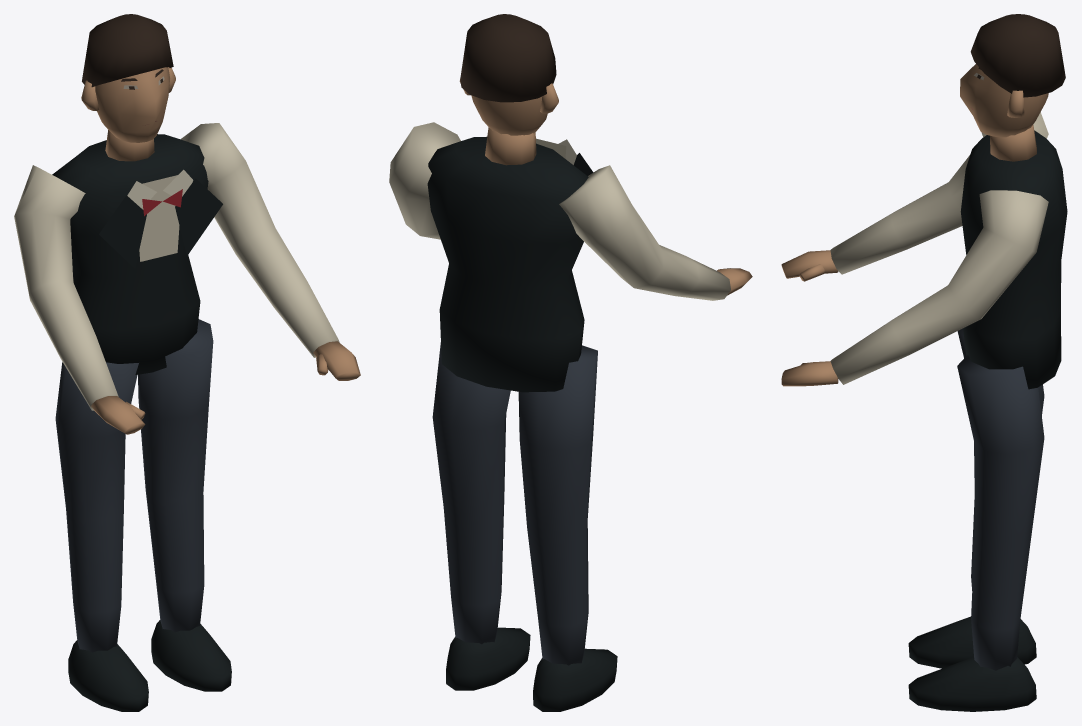
The model's file is salon_dealer.glb.
3 renders of one model, left to right at view 1: azimuth 30°, elevation 25°; view 2: azimuth 150°, elevation 25°; view 3: azimuth 270°, elevation 25°, orthographic. The views are drawn at different scales.
Visible parts, largest first — view 1: Palette; view 2: Palette; view 3: Palette.
Part boxes in pixels (left/top/right/bottom): Palette: left=14, top=14, right=360, bottom=711; Palette: left=389, top=14, right=752, bottom=711; Palette: left=781, top=14, right=1067, bottom=711.
Bounding box in the file's own units: 0.7296 × 1.78 × 0.6966.
